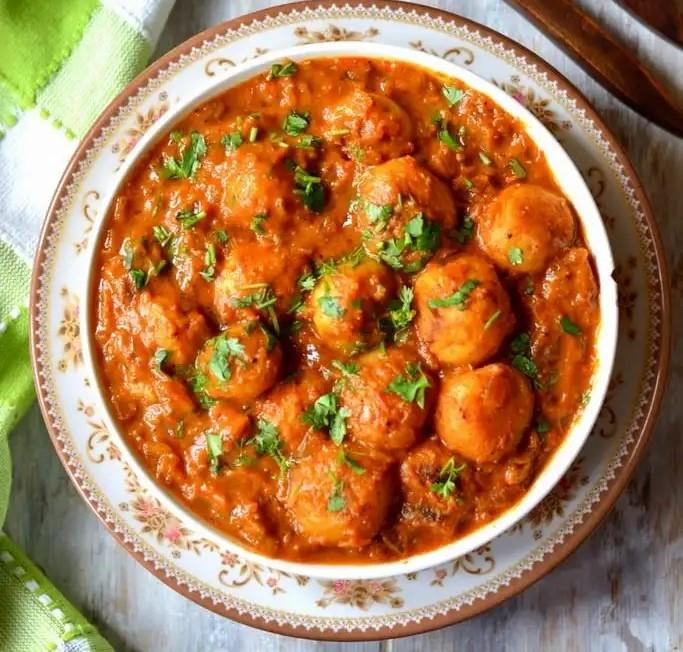DumAloo: (97, 54, 598, 563)
